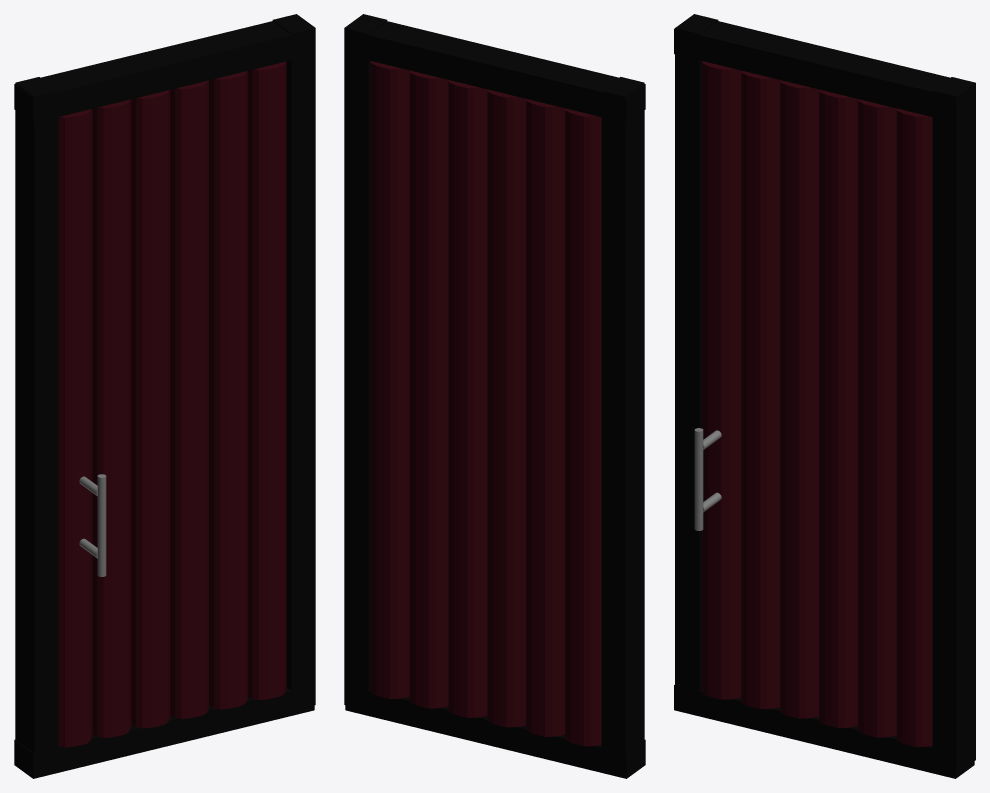
Rendered from Door (1).fbx.
The picture shows the model from 3 angles, left to right: view 1: azimuth 30°, elevation 25°; view 2: azimuth 150°, elevation 25°; view 3: azimuth 330°, elevation 25°; orthographic projection.
Visible parts, largest first — view 1: Cube.002, Cube.001; view 2: Cube.002, Cube.001; view 3: Cube.002, Cube.001.
Boxes of the visible parts, <box> form: Cube.002: <box>58,61,286,747</box>; Cube.001: <box>14,14,315,778</box>; Cube.002: <box>370,61,601,746</box>; Cube.001: <box>344,14,645,778</box>; Cube.002: <box>694,61,932,746</box>; Cube.001: <box>674,14,975,778</box>.
Size of the model in its own units: 375 by 866 by 107.
